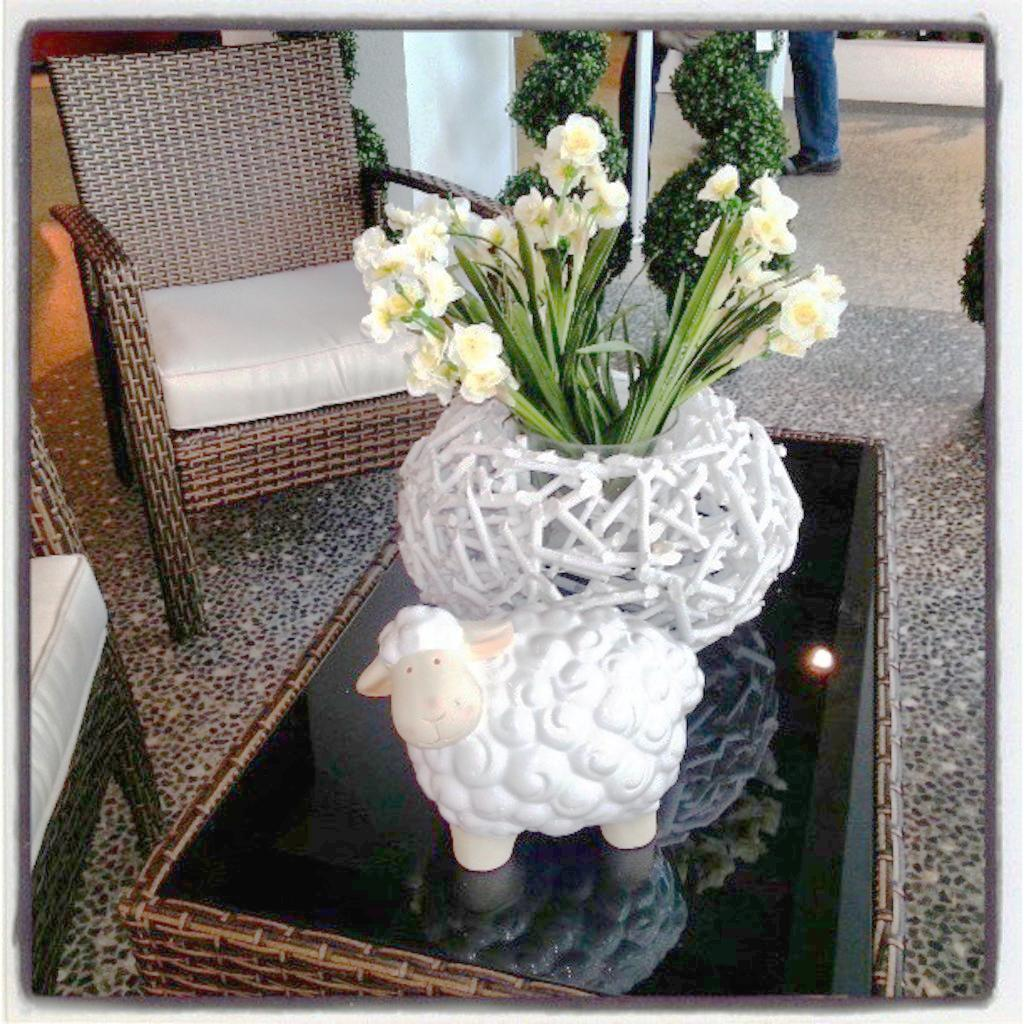Sheep: (354, 606, 714, 866)
